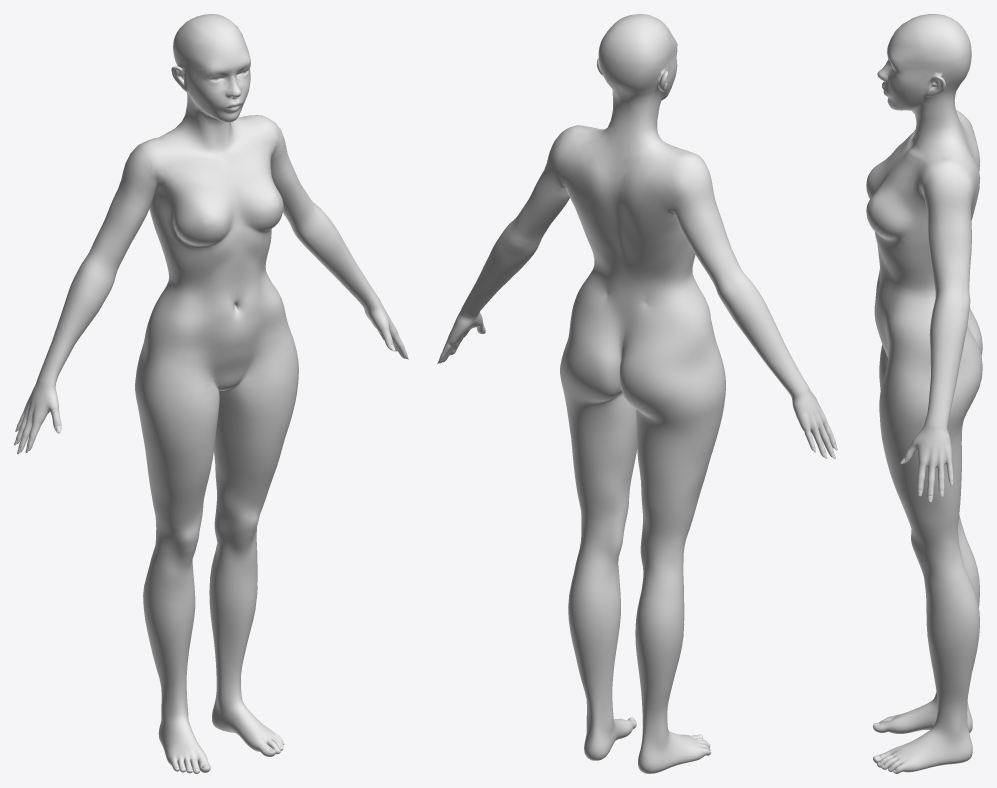
Rendered from paint_female_armdown_end.fbx.
3 renders of one model, left to right at view 1: azimuth 30°, elevation 25°; view 2: azimuth 150°, elevation 25°; view 3: azimuth 270°, elevation 25°, orthographic.
Parts seen in each view (by area): view 1: Body.001; view 2: Body.001; view 3: Body.001.
Part boxes in pixels (bbox=[...]): Body.001: bbox=[14, 14, 408, 773]; Body.001: bbox=[437, 14, 837, 773]; Body.001: bbox=[866, 14, 982, 773].
Bounding box in the file's own units: 104 × 185 × 26.68.
